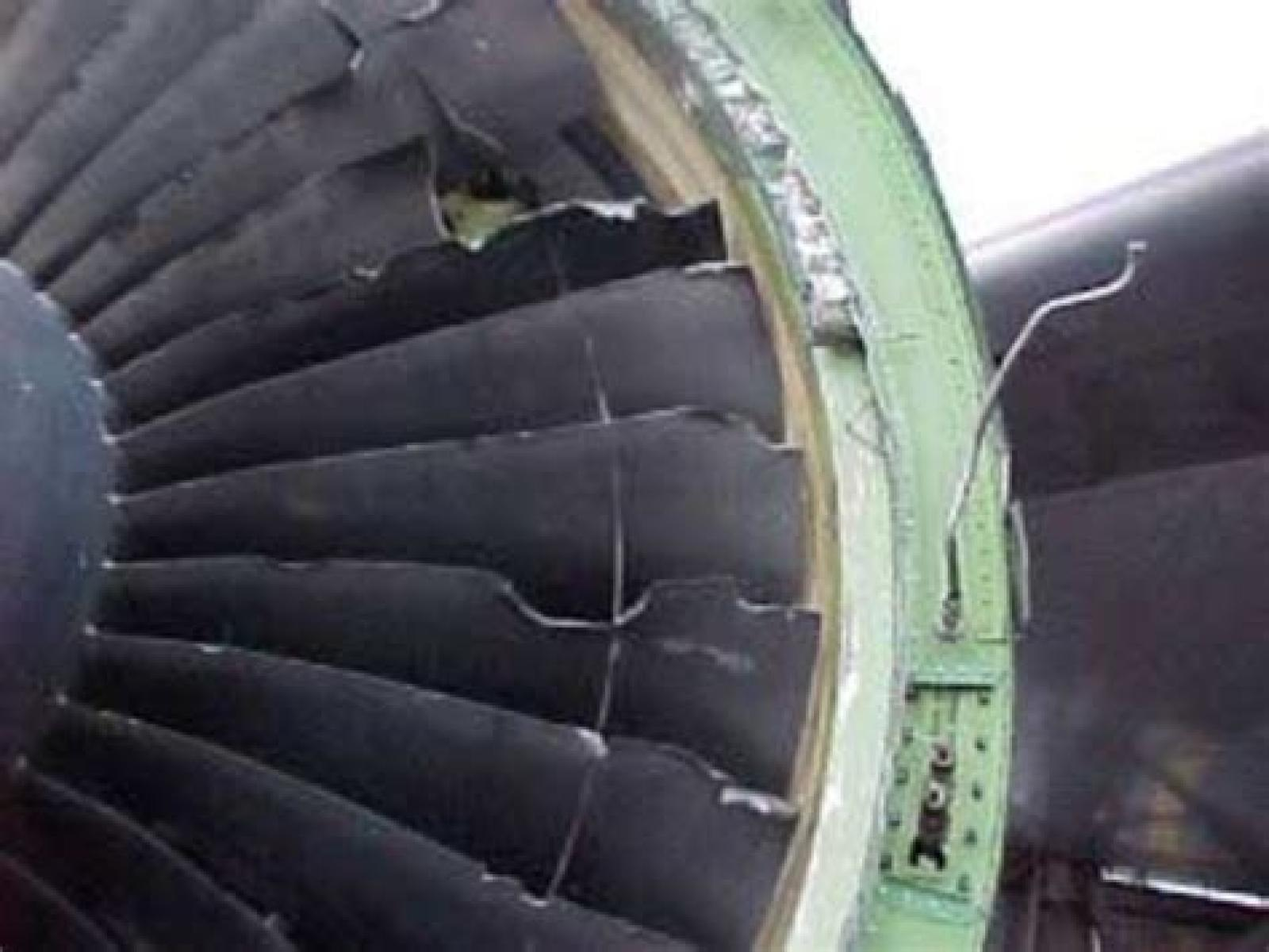Engine_damage: (112, 560, 605, 724), (265, 204, 720, 373), (498, 445, 651, 732), (613, 582, 811, 788), (418, 75, 592, 249), (319, 0, 460, 88)
